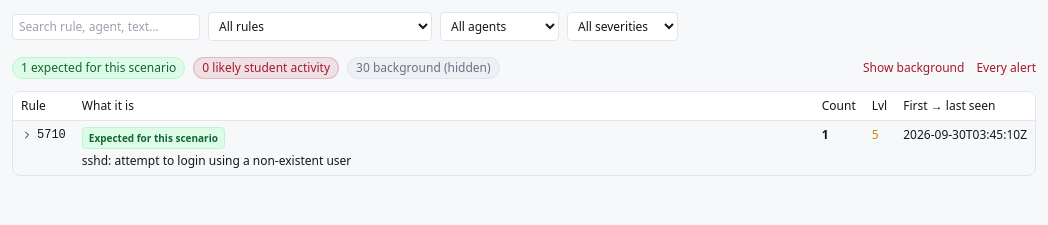
Test: expands a rule to list each occurrence
Click the text "sshd: attempt to login using a non-existent user": (217, 160) [82,152,351,169]
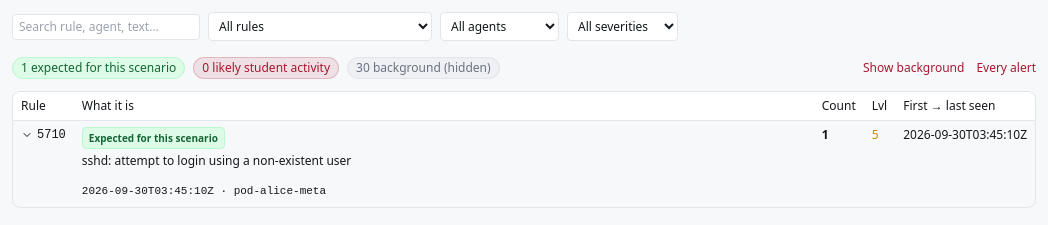
Expected: the list item "2026-09-30T03:45:10Z · pod-alice-meta" is shown, [82,185,326,197]
